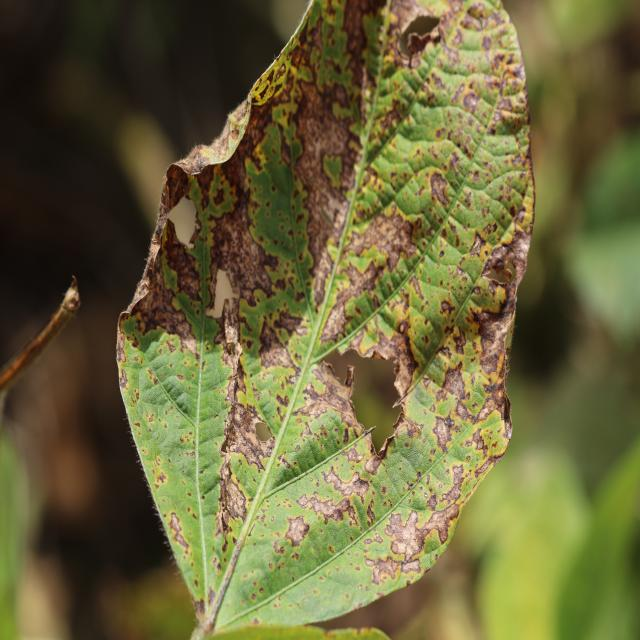Bacterial_Blight: (195, 503, 264, 636), (128, 230, 202, 339), (299, 83, 356, 195), (219, 356, 274, 470), (345, 211, 413, 297), (473, 278, 525, 382), (479, 51, 532, 141), (382, 500, 453, 562), (485, 225, 534, 294), (257, 321, 299, 373), (304, 491, 354, 527), (157, 168, 191, 220), (318, 291, 354, 339), (223, 96, 253, 153), (437, 463, 468, 507), (175, 141, 215, 175), (438, 364, 471, 403), (320, 358, 347, 393), (283, 514, 311, 547), (431, 414, 455, 452), (275, 123, 295, 168), (167, 511, 190, 549), (430, 172, 452, 208), (375, 429, 399, 462), (406, 30, 432, 56), (117, 308, 134, 340), (219, 425, 235, 457), (462, 90, 481, 112), (465, 8, 484, 28), (469, 235, 485, 257), (439, 299, 455, 315), (213, 186, 226, 205), (153, 223, 165, 242), (207, 586, 217, 608), (147, 368, 159, 386), (426, 493, 438, 511), (371, 566, 382, 584), (119, 369, 128, 390), (155, 471, 167, 486), (277, 64, 286, 78), (406, 482, 414, 491), (328, 545, 335, 554), (199, 468, 204, 474)
Soybean: (117, 0, 535, 637)
